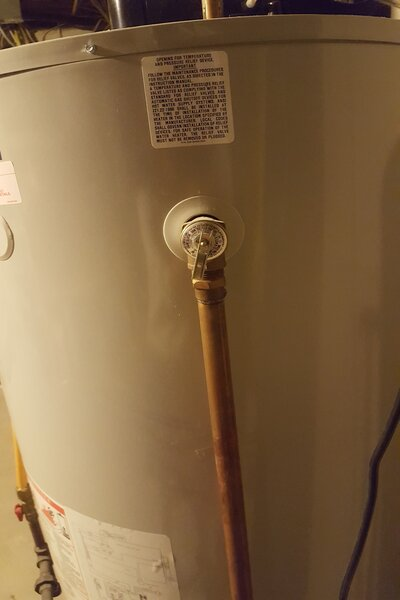valve: (176, 213, 233, 305)
